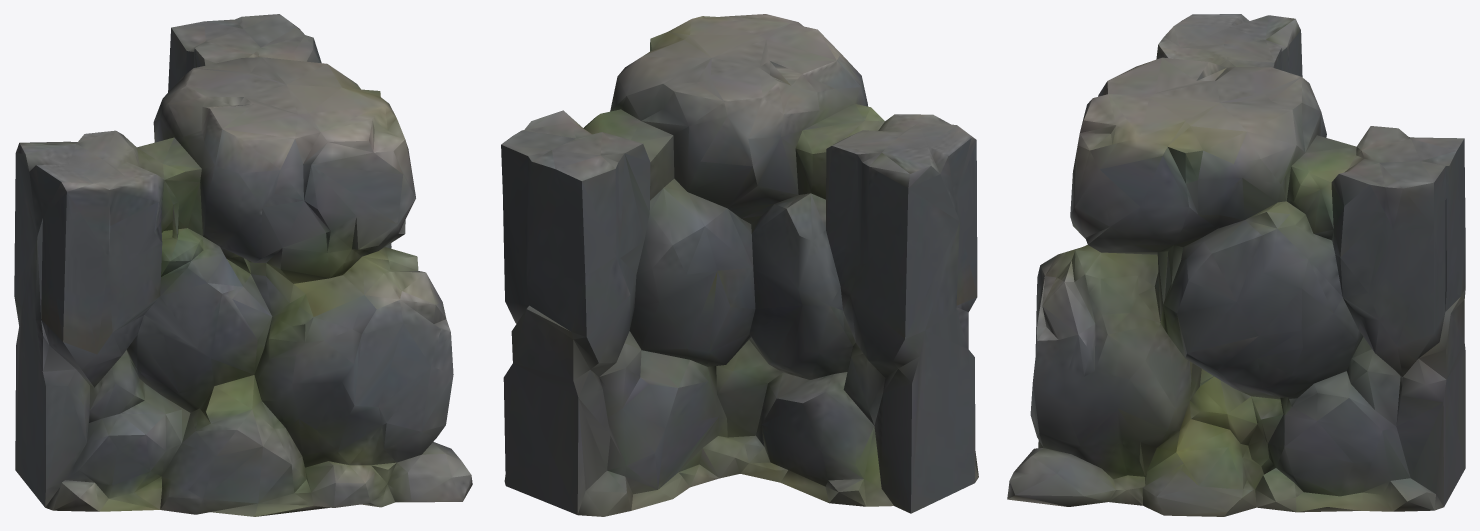
File: cueva_pared_1500.glb
3 renders of one model, left to right at view 1: azimuth 30°, elevation 25°; view 2: azimuth 150°, elevation 25°; view 3: azimuth 270°, elevation 25°, orthographic. The views are drawn at different scales.
Visible parts, largest first — view 1: cueva_pared_malla; view 2: cueva_pared_malla; view 3: cueva_pared_malla.
Part boxes in pixels (<box>): cueva_pared_malla: <box>14,14,472,516</box>; cueva_pared_malla: <box>501,14,978,516</box>; cueva_pared_malla: <box>1007,14,1465,516</box>.
Size of the model in its own units: 0.3352 by 0.3223 by 0.3699.
Materials: 1 (1 with a texture image).
